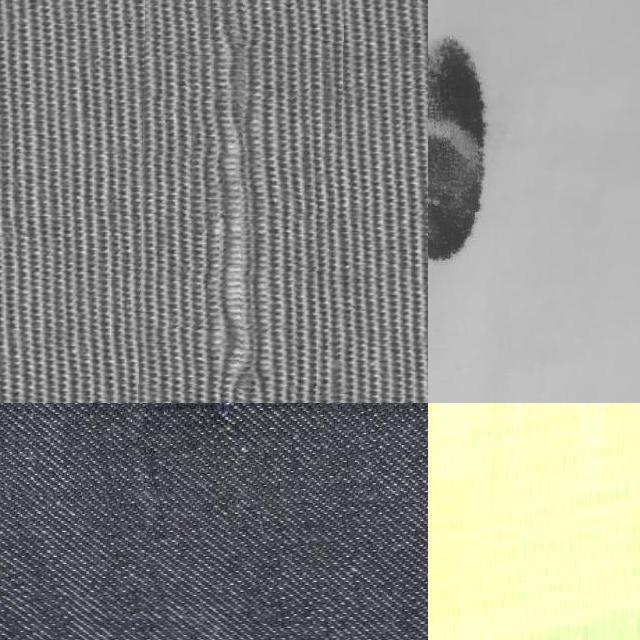Thread_other: (428, 0, 562, 295)
stains: (138, 0, 342, 403), (428, 403, 640, 640), (0, 403, 428, 501)
